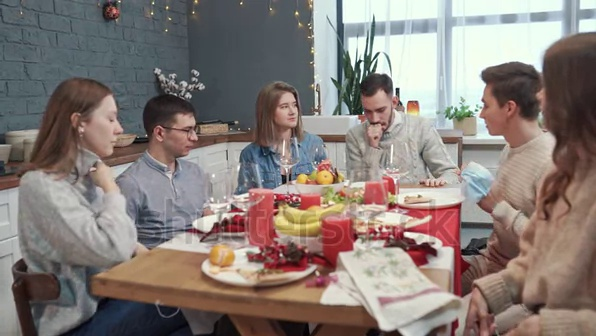No Mask: (41, 73, 126, 181), (469, 61, 545, 148), (139, 90, 205, 165), (256, 76, 312, 147), (358, 73, 403, 138)
